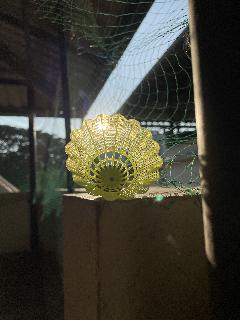shuttlecock: (64, 114, 162, 200)
